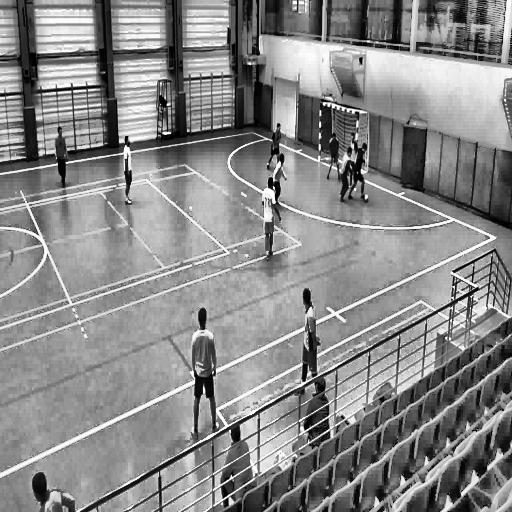ball: (363, 193, 371, 205)
player: (191, 308, 220, 441), (294, 288, 319, 396), (262, 177, 282, 262), (338, 147, 358, 205), (54, 126, 69, 188), (350, 144, 366, 200), (123, 134, 134, 206), (326, 132, 341, 182), (273, 154, 286, 206), (267, 122, 281, 170), (348, 132, 358, 192)
